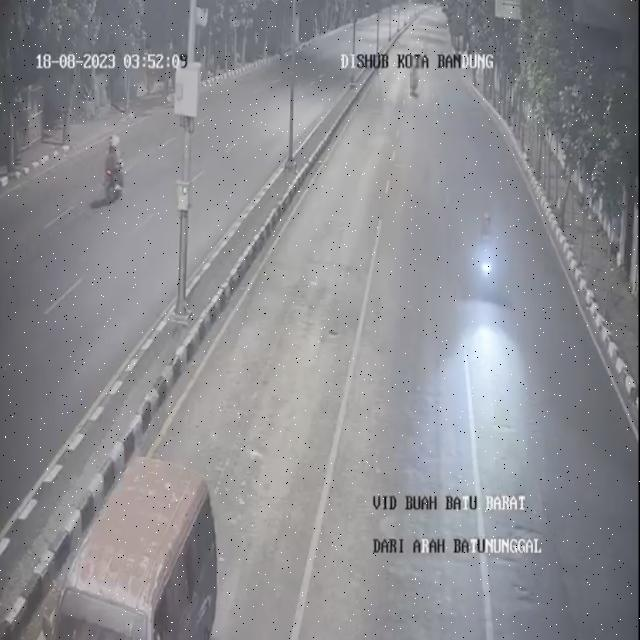cars: (42, 456, 220, 640)
motorcycle: (468, 210, 502, 310), (410, 56, 424, 103)
